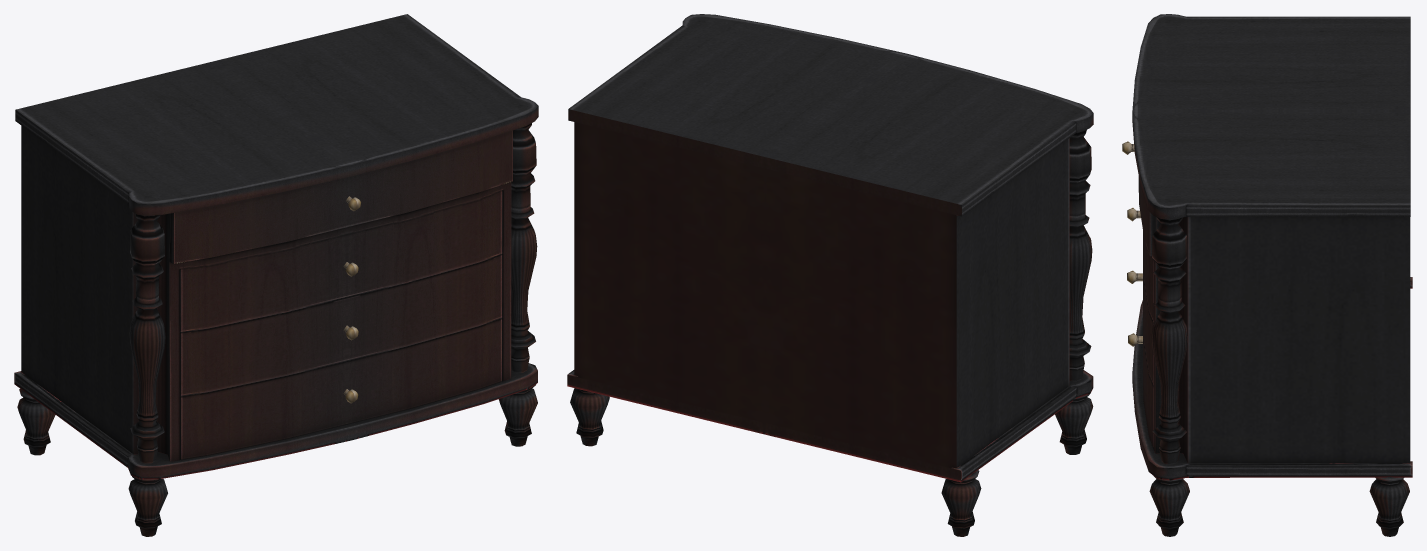
Rendered from Cabinet01.FBX.
The picture shows the model from 3 angles, left to right: view 1: azimuth 30°, elevation 25°; view 2: azimuth 150°, elevation 25°; view 3: azimuth 270°, elevation 25°; orthographic projection.
Parts seen in each view (by area): view 1: Cabinet01; view 2: Cabinet01; view 3: Cabinet01.
Part boxes in pixels (box(x1,y1,x2,y2)): Cabinet01: box(14, 14, 538, 536); Cabinet01: box(567, 14, 1093, 536); Cabinet01: box(1122, 14, 1412, 536).
Bounding box in the file's own units: 142 × 113 × 88.95.
